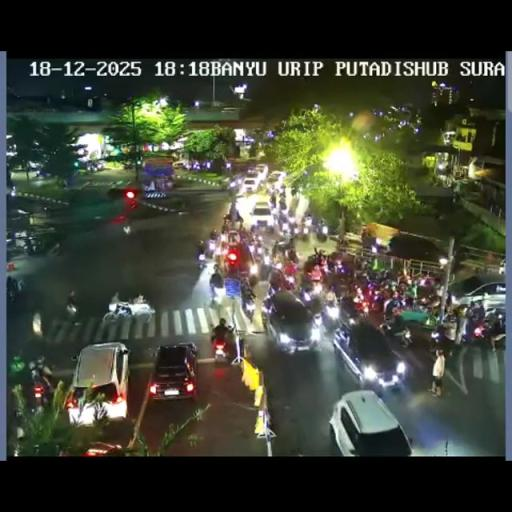Car: (66, 342, 130, 426), (329, 390, 410, 455), (334, 318, 407, 390), (263, 288, 320, 354), (148, 343, 198, 402), (217, 229, 257, 289), (446, 280, 504, 318), (141, 158, 175, 196), (240, 163, 268, 192), (74, 440, 125, 455), (250, 202, 274, 228), (227, 173, 245, 191), (266, 170, 286, 184), (172, 160, 189, 169)
Motorcycle: (338, 260, 442, 336), (29, 367, 52, 410), (268, 262, 297, 294), (10, 399, 29, 446), (211, 327, 234, 363), (338, 294, 362, 326), (303, 254, 329, 283), (319, 298, 341, 332), (430, 320, 454, 351), (102, 302, 133, 326), (326, 250, 350, 276), (418, 290, 443, 312), (276, 235, 298, 260), (331, 275, 352, 301), (365, 265, 391, 286), (274, 204, 292, 234), (384, 294, 406, 318), (241, 290, 256, 320), (209, 268, 223, 300), (262, 292, 278, 318), (250, 240, 266, 264), (298, 284, 316, 305), (369, 236, 390, 254), (23, 237, 43, 254), (6, 276, 18, 302), (314, 218, 328, 240), (65, 300, 79, 322), (46, 240, 62, 258), (212, 239, 225, 261), (418, 274, 436, 289), (299, 220, 311, 242), (196, 250, 208, 270), (335, 233, 348, 251), (268, 197, 280, 215), (6, 230, 16, 250), (222, 212, 232, 230), (248, 270, 258, 288), (275, 182, 286, 198), (262, 250, 271, 266), (219, 230, 228, 246), (234, 210, 242, 226), (85, 161, 96, 172), (210, 228, 218, 243), (278, 196, 286, 210), (250, 224, 258, 238), (498, 258, 505, 274)
